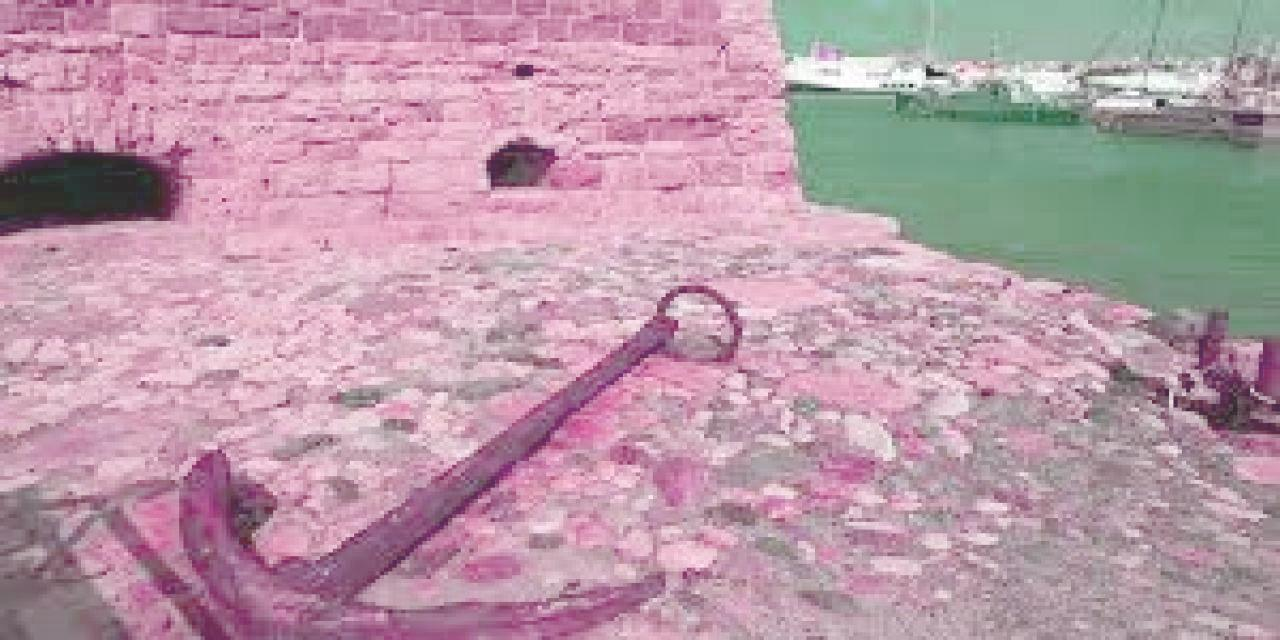Kules: (1, 1, 813, 257)
